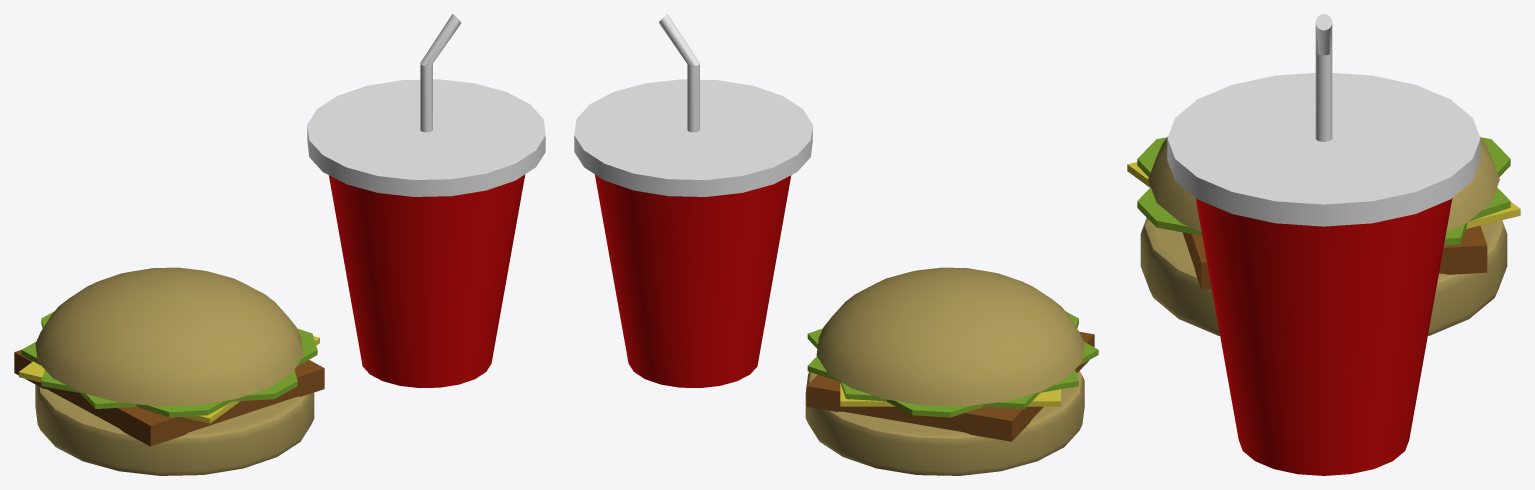
File: Food and drinks.fbx
3 views of the same model, side by side, from view 1: azimuth 30°, elevation 25°; view 2: azimuth 150°, elevation 25°; view 3: azimuth 270°, elevation 25° (orthographic). The views are drawn at different scales.
Parts seen in each view (by area): view 1: pCylinder7, pSphere3, pCylinder9, pCylinder10, pCube6, pDisc2, pCylinder8, pCube7; view 2: pCylinder7, pSphere3, pCylinder9, pCylinder10, pCube6, pDisc2, pCylinder8, pCube7; view 3: pCylinder7, pCylinder9, pCylinder10, pSphere3, pDisc2, pCube6, pCylinder8, pCube7.
Part boxes in pixels (x1=…): pCylinder7: x1=329, y1=174, x2=525, y2=387; pSphere3: x1=35, y1=267, x2=303, y2=406; pCylinder9: x1=307, y1=79, x2=545, y2=196; pCylinder10: x1=35, y1=384, x2=314, y2=475; pCube6: x1=14, y1=350, x2=324, y2=446; pDisc2: x1=21, y1=311, x2=317, y2=417; pCylinder8: x1=420, y1=14, x2=460, y2=132; pCube7: x1=19, y1=336, x2=319, y2=423; pCylinder7: x1=595, y1=174, x2=791, y2=387; pSphere3: x1=816, y1=267, x2=1084, y2=406; pCylinder9: x1=574, y1=79, x2=812, y2=196; pCylinder10: x1=805, y1=371, x2=1084, y2=475; pCube6: x1=806, y1=331, x2=1094, y2=441; pDisc2: x1=807, y1=311, x2=1098, y2=417; pCylinder8: x1=659, y1=14, x2=699, y2=132; pCube7: x1=840, y1=383, x2=1060, y2=406; pCylinder7: x1=1195, y1=198, x2=1452, y2=475; pCylinder9: x1=1167, y1=73, x2=1480, y2=226; pCylinder10: x1=1140, y1=218, x2=1507, y2=335; pSphere3: x1=1148, y1=137, x2=1499, y2=231; pDisc2: x1=1137, y1=137, x2=1510, y2=245; pCube6: x1=1182, y1=225, x2=1487, y2=289; pCylinder8: x1=1315, y1=14, x2=1332, y2=141; pCube7: x1=1127, y1=162, x2=1520, y2=228.
Bounding box in the file's own units: 65.69 × 43.36 × 34.88.
